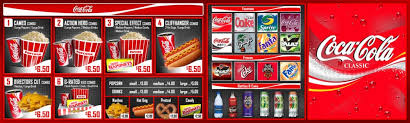coke: (311, 11, 407, 100)
